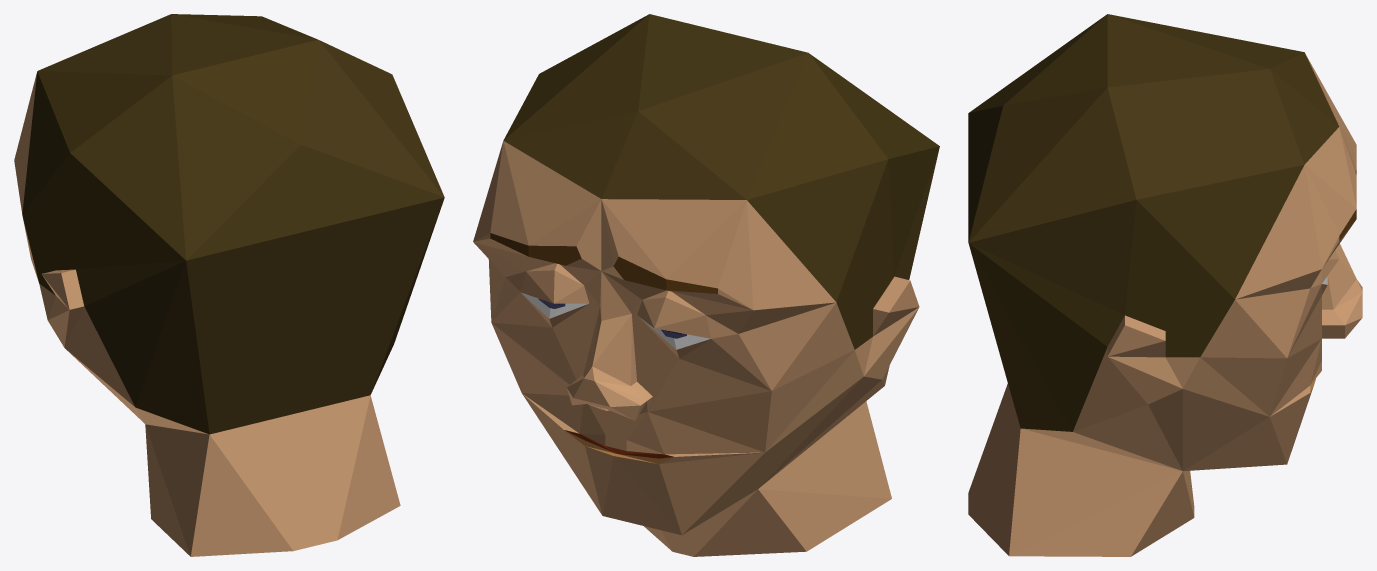
File: npc_chat_wilough_0.obj
3 renders of one model, left to right at view 1: azimuth 30°, elevation 25°; view 2: azimuth 150°, elevation 25°; view 3: azimuth 270°, elevation 25°, orthographic. The views are drawn at different scales.
Bounding box in the file's own units: 0.5703 × 0.6875 × 0.5312.
